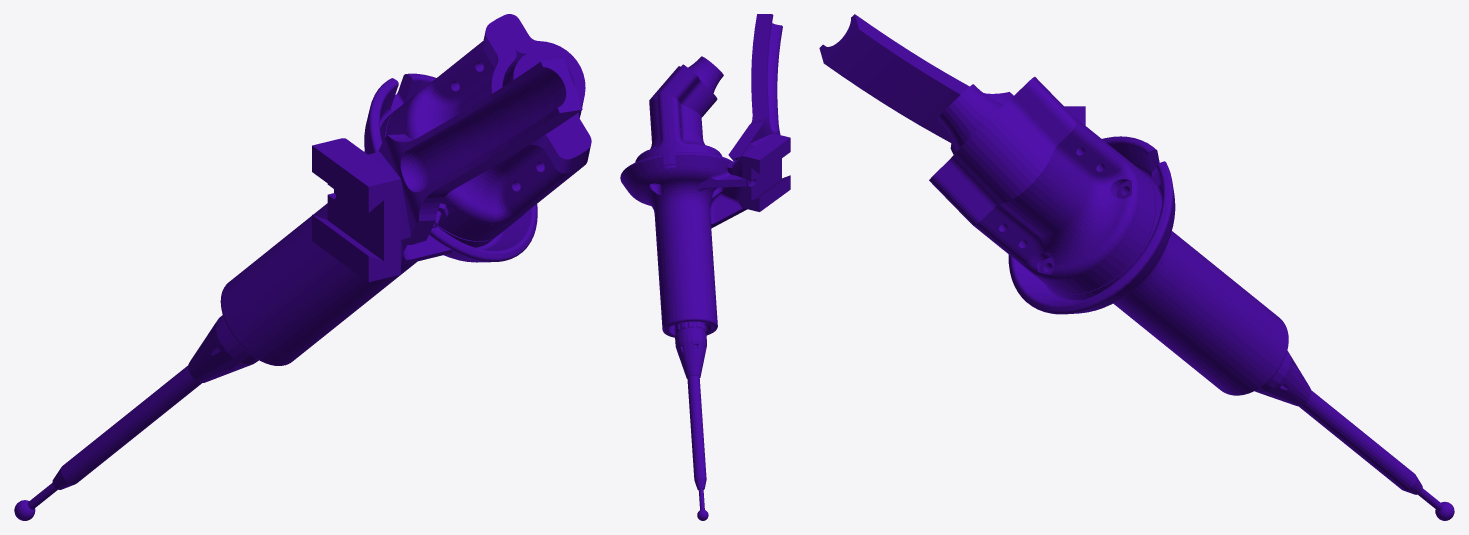
Rendered from full_drill_and_adapter.OBJ.
3 views of the same model, side by side, from view 1: azimuth 30°, elevation 25°; view 2: azimuth 150°, elevation 25°; view 3: azimuth 270°, elevation 25° (orthographic). The views are drawn at different scales.
Visible parts, largest first — view 1: /ambf/env/full_drill_and_adapter_full_drill_and_adapter; view 2: /ambf/env/full_drill_and_adapter_full_drill_and_adapter; view 3: /ambf/env/full_drill_and_adapter_full_drill_and_adapter.
Part boxes in pixels (<box>): /ambf/env/full_drill_and_adapter_full_drill_and_adapter: <box>14,14,591,520</box>; /ambf/env/full_drill_and_adapter_full_drill_and_adapter: <box>620,14,790,520</box>; /ambf/env/full_drill_and_adapter_full_drill_and_adapter: <box>819,14,1454,520</box>.
Bounding box in the file's own units: 0.0818 × 0.1516 × 0.1471.
